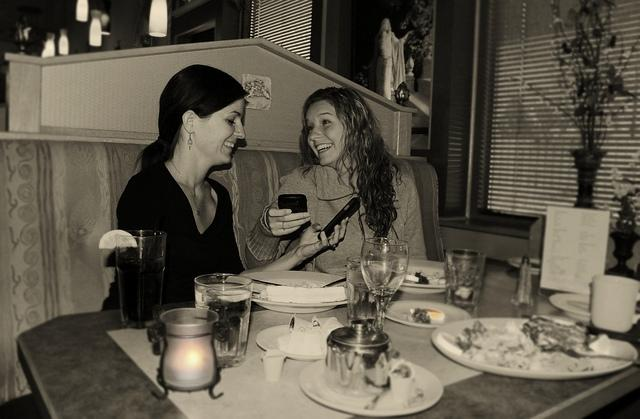lemon: (99, 230, 137, 248)
